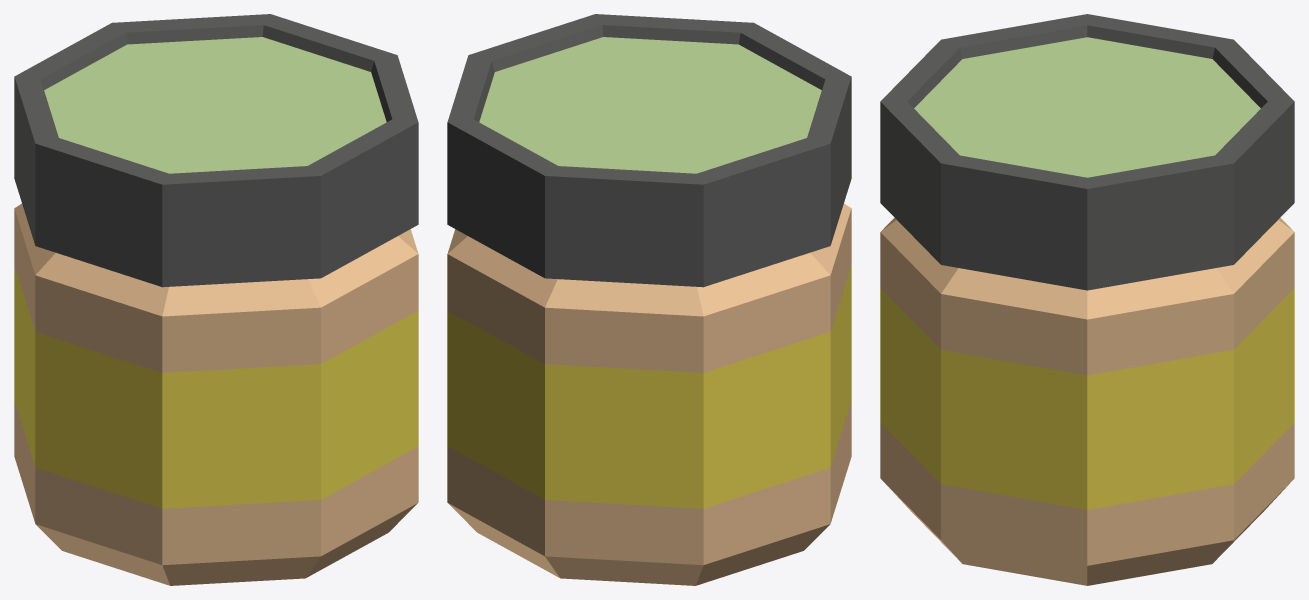
The model's file is pigment.fbx.
3 renders of one model, left to right at view 1: azimuth 30°, elevation 25°; view 2: azimuth 150°, elevation 25°; view 3: azimuth 270°, elevation 25°, orthographic.
Visible parts, largest first — view 1: pigment; view 2: pigment; view 3: pigment.
Part boxes in pixels (box(x1,y1,x2,y2)): pigment: box(14, 14, 418, 585); pigment: box(447, 14, 851, 585); pigment: box(880, 14, 1294, 585).
Bounding box in the file's own units: 91.2 × 99.57 × 91.2.
